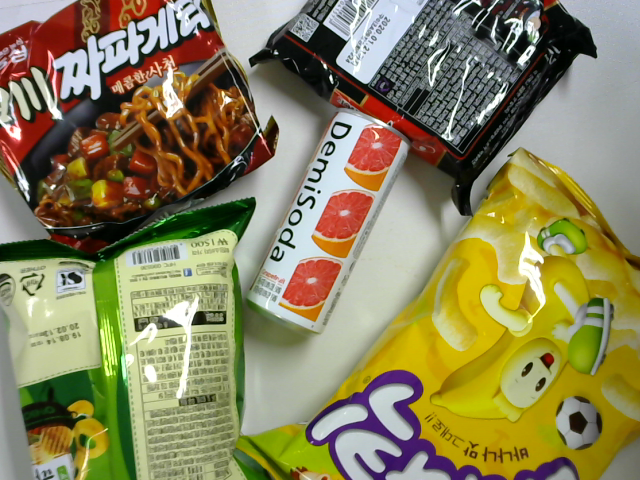Banana_Kick: (239, 146, 640, 478)
Demisoda_Grapefruit_Can_250ml: (251, 110, 397, 332)
Grilled_Onions: (3, 200, 259, 480)
Sichuan_Chapaghetti: (1, 6, 279, 242)
Sinramen_Black: (255, 6, 601, 208)
